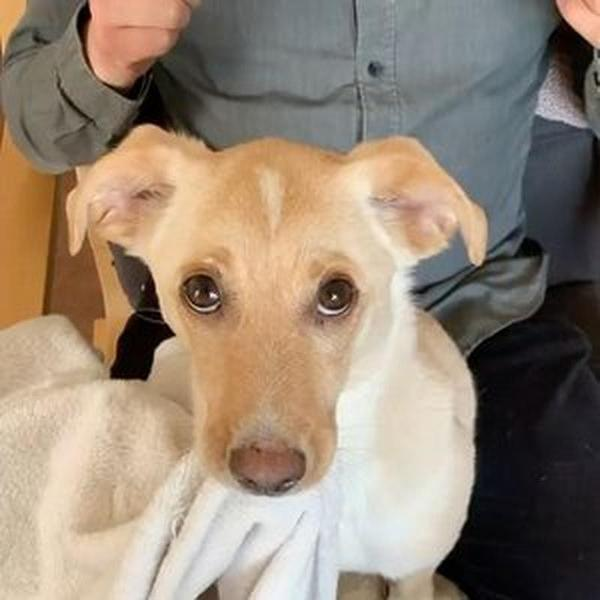allqu: (59, 118, 522, 598)
